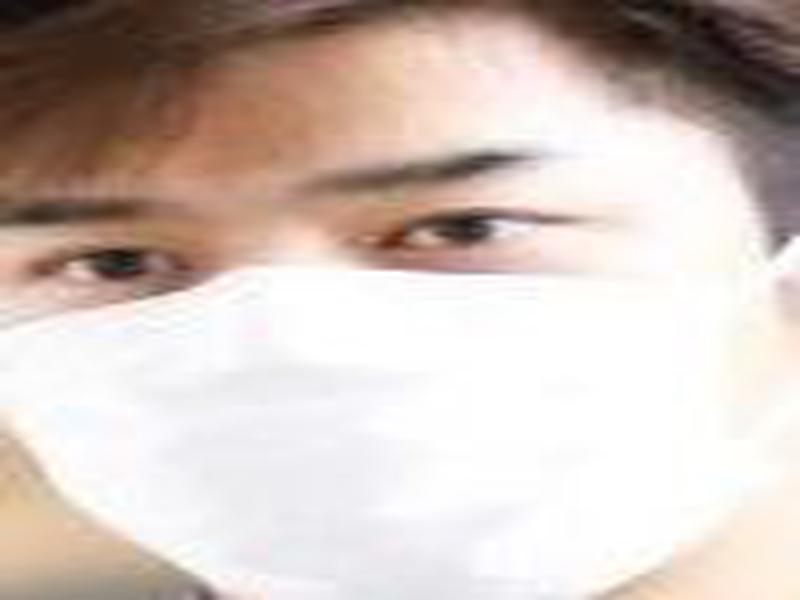with_mask: (1, 8, 779, 600)
